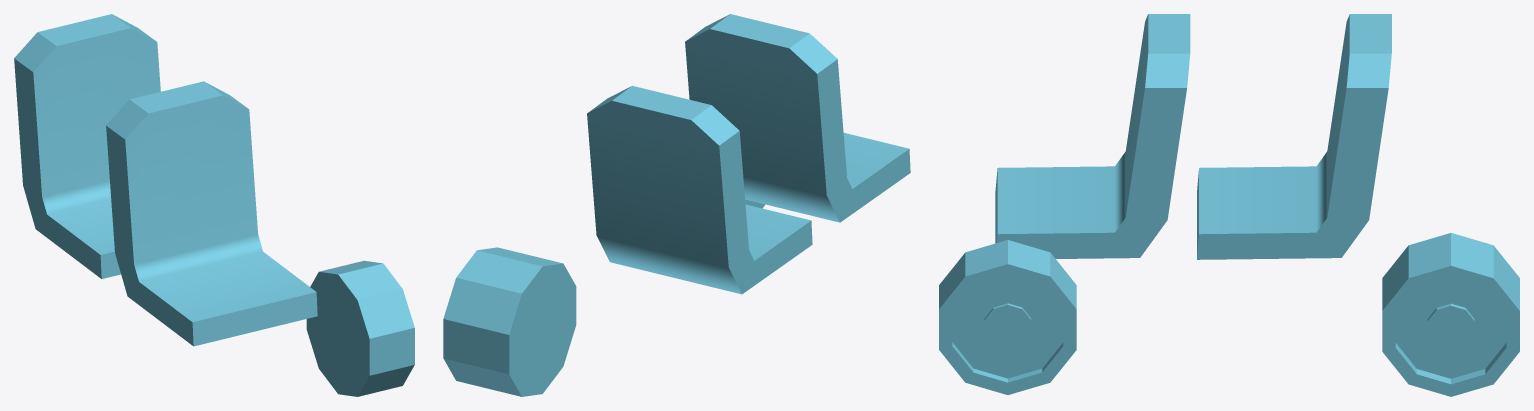
3 renders of one model, left to right at view 1: azimuth 30°, elevation 25°; view 2: azimuth 150°, elevation 25°; view 3: azimuth 270°, elevation 25°, orthographic. The views are drawn at different scales.
Visible parts, largest first — view 1: pCube6; view 2: pCube6; view 3: pCube6.
Part boxes in pixels (x1,y1,x2,y2): pCube6: (14,14,414,396); pCube6: (443,14,910,396); pCube6: (939,14,1519,396).
Bounding box in the file's own units: 2.41 × 3.07 × 5.57.
